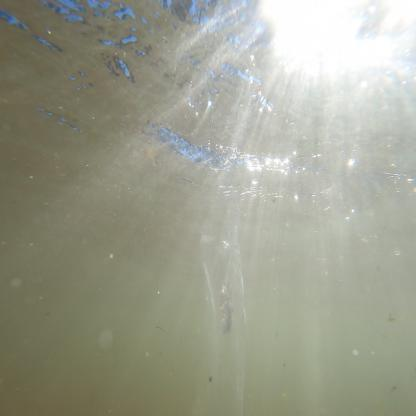Rác: (176, 211, 268, 416)
